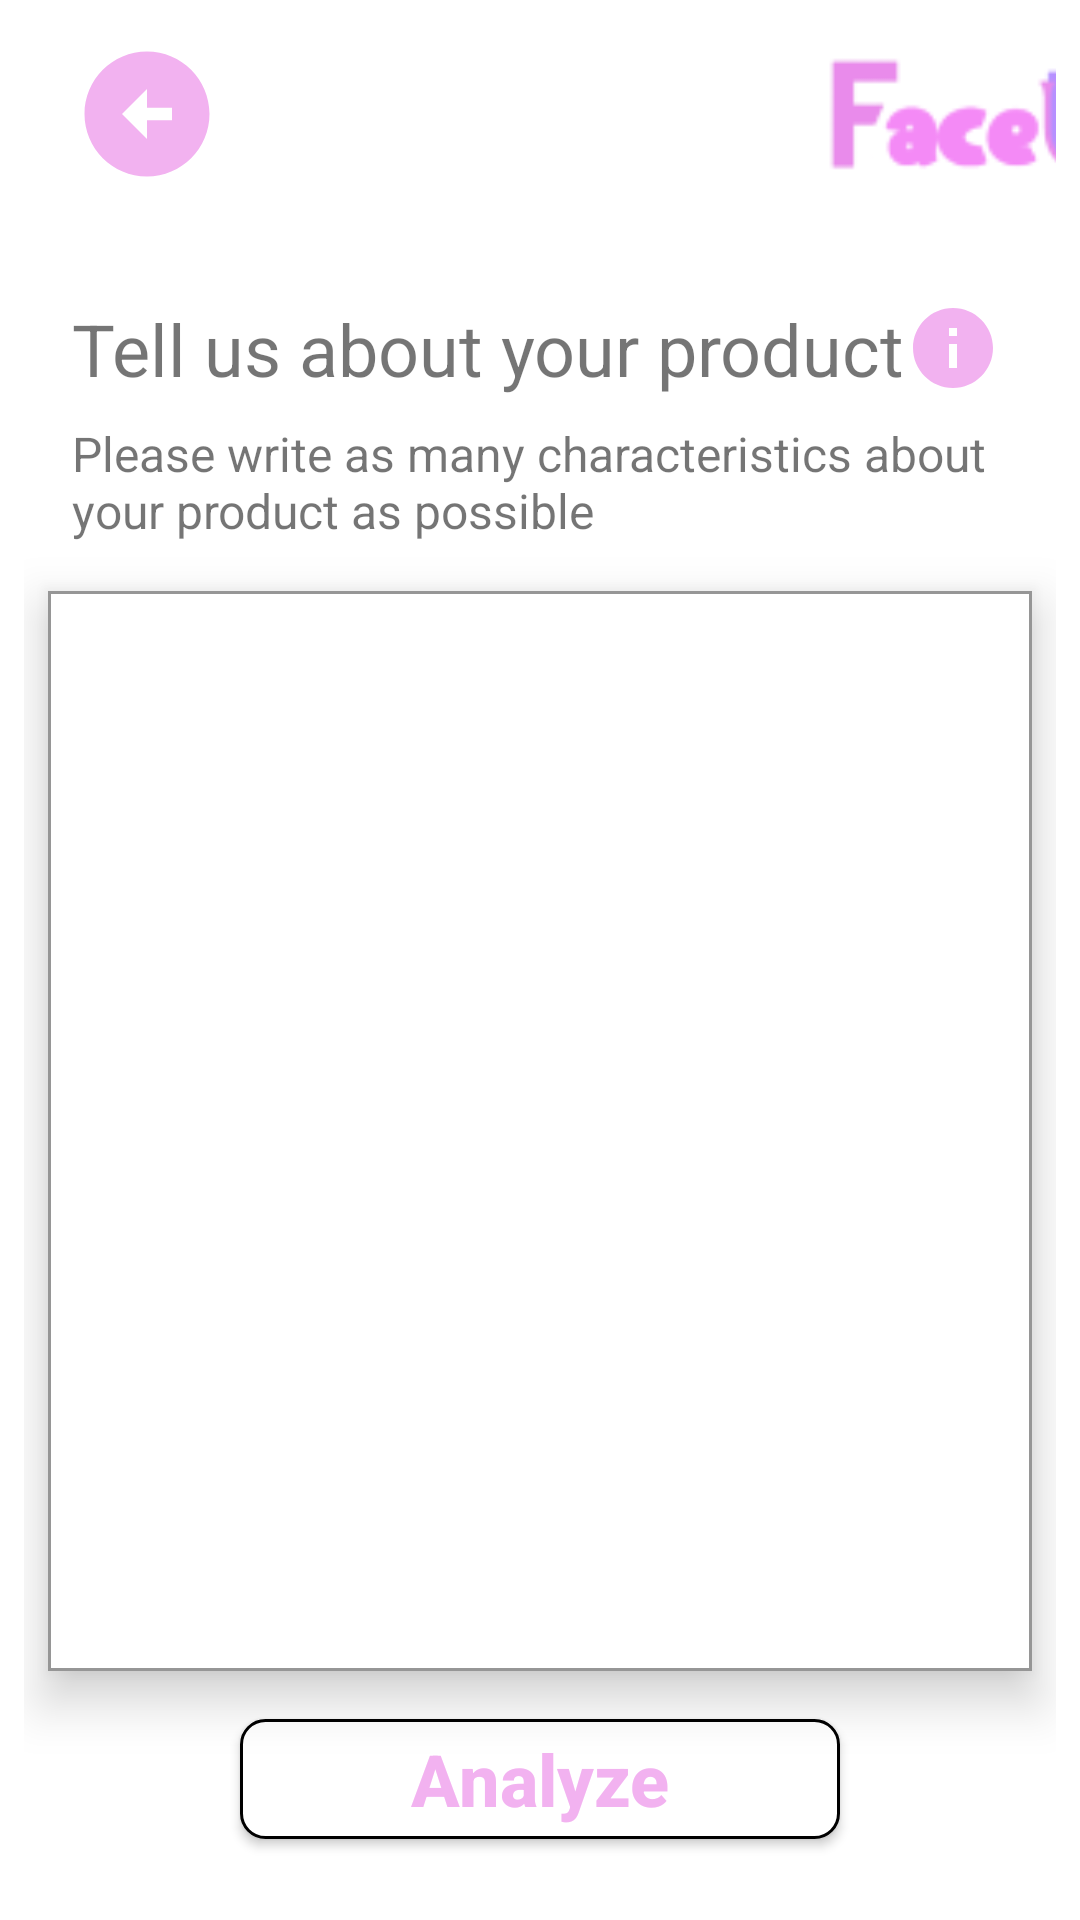

Locate icon controls on the screen. Image size 1080w x 1920h, boxes as (x1, y1, x2, y2).
arrow circle left: (84, 51, 210, 177)
